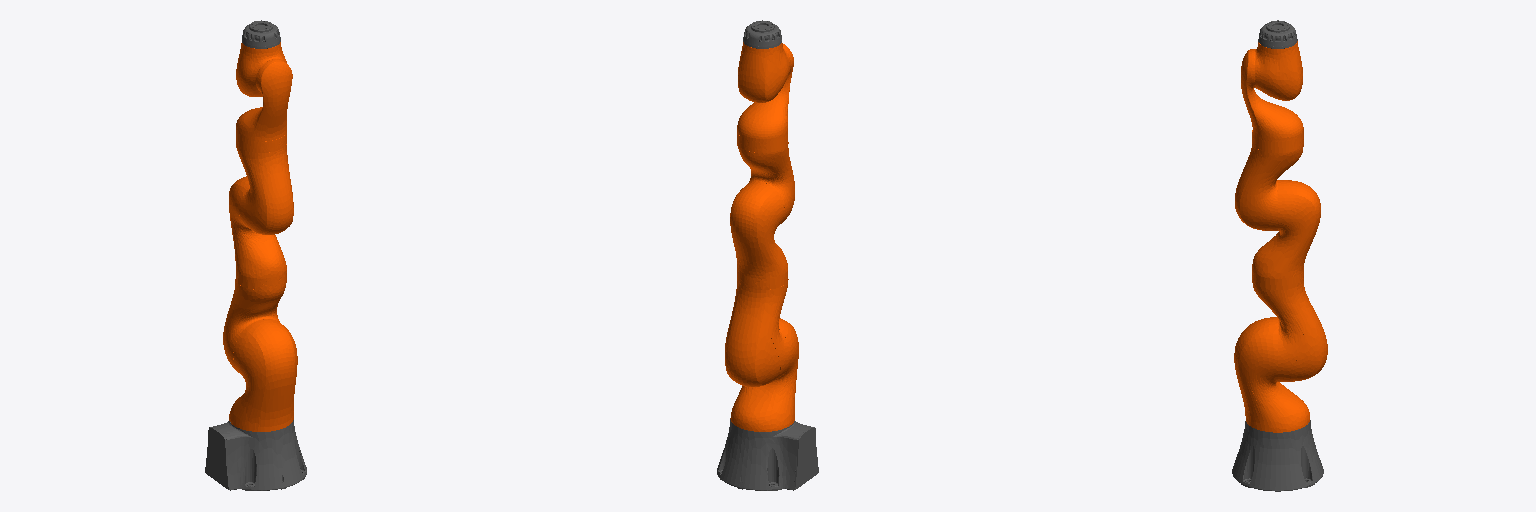
URDF robot description (iiwa14):
<?xml version="1.0" encoding="utf-8"?>
<!-- =================================================================================== -->
<!-- |    This document was autogenerated by xacro from iiwa_description/urdf/iiwa14.urdf.xacro | -->
<!-- |    EDITING THIS FILE BY HAND IS NOT RECOMMENDED                                 | -->
<!-- =================================================================================== -->
<!--|
    Copyright (C) 2019 [author] and Systems Laboratory, EPFL, Switzerland
    Authors:  [author] (maintainer)
              [author]
              [author]
    email:   [email redacted]
             [email redacted]
             [email redacted]
    website: lasa.epfl.ch

    This file is part of iiwa_ros.

    iiwa_ros is free software: you can redistribute it and/or modify
    it under the terms of the GNU General Public License as published by
    the Free Software Foundation, either version 3 of the License, or
    (at your option) any later version.

    iiwa_ros is distributed in the hope that it will be useful,
    but WITHOUT ANY WARRANTY; without even the implied warranty of
    MERCHANTABILITY or FITNESS FOR A PARTICULAR PURPOSE.  See the
    GNU General Public License for more details.

|-->
<robot name="iiwa14" xmlns:xacro="http://www.ros.org/wiki/xacro">
  <material name="Black">
    <color rgba="0.0 0.0 0.0 1.0"/>
  </material>
  <material name="Blue">
    <color rgba="0.0 0.0 0.8 1.0"/>
  </material>
  <material name="Green">
    <color rgba="0.0 0.8 0.0 1.0"/>
  </material>
  <material name="Grey">
    <color rgba="0.4 0.4 0.4 1.0"/>
  </material>
  <material name="Orange">
    <color rgba="1.0 0.423529411765 0.0392156862745 1.0"/>
  </material>
  <material name="Brown">
    <color rgba="0.870588235294 0.811764705882 0.764705882353 1.0"/>
  </material>
  <material name="Red">
    <color rgba="0.8 0.0 0.0 1.0"/>
  </material>
  <material name="White">
    <color rgba="1.0 1.0 1.0 1.0"/>
  </material>
  <!-- Fix to world just for testing -->
  <link name="world"/>
  <!--joint between {parent} and link_0-->
  <joint name="world_iiwa_joint" type="fixed">
    <origin rpy="0 0 0" xyz="0 0 0"/>
    <parent link="world"/>
    <child link="iiwa_link_0"/>
  </joint>
  <link name="iiwa_link_0">
    <inertial>
      <origin rpy="0 0 0" xyz="-0.1 0 0.07"/>
      <mass value="5"/>
      <inertia ixx="0.05" ixy="0" ixz="0" iyy="0.06" iyz="0" izz="0.03"/>
    </inertial>
    <visual>
      <origin rpy="0 0 0" xyz="0 0 0"/>
      <geometry>
        <mesh filename="package://iiwa_description/meshes/iiwa14/visual/link_0.stl"/>
      </geometry>
      <material name="Grey"/>
    </visual>
    <collision>
      <origin rpy="0 0 0" xyz="-0.01 0 0.07875"/>
      <geometry>
        <!-- <mesh filename="package://iiwa_description/meshes/iiwa14/collision/link_0${collision_postfix}.stl"/> -->
        <box size="0.24 0.23 0.1575"/>
      </geometry>
      <material name="Grey"/>
    </collision>
    <self_collision_checking>
      <origin rpy="0 0 0" xyz="0 0 0"/>
      <geometry>
        <capsule length="0.25" radius="0.15"/>
      </geometry>
    </self_collision_checking>
  </link>
  <!-- joint between link_0 and link_1 -->
  <joint name="iiwa_joint_1" type="revolute">
    <parent link="iiwa_link_0"/>
    <child link="iiwa_link_1"/>
    <origin rpy="0 0 0" xyz="0 0 0.1575"/>
    <axis xyz="0 0 1"/>
    <limit effort="320" lower="-2.96705972839" upper="2.96705972839" velocity="1.4835298642"/>
    <safety_controller k_position="100" k_velocity="2" soft_lower_limit="-2.81870674197" soft_upper_limit="2.81870674197"/>
    <dynamics damping="0.5"/>
  </joint>
  <link name="iiwa_link_1">
    <inertial>
      <origin rpy="0 0 0" xyz="0 -0.03 0.12"/>
      <mass value="4"/>
      <inertia ixx="0.1" ixy="0" ixz="0" iyy="0.09" iyz="0" izz="0.02"/>
    </inertial>
    <visual>
      <origin rpy="0 0 0" xyz="0 0 0"/>
      <geometry>
        <mesh filename="package://iiwa_description/meshes/iiwa14/visual/link_1.stl"/>
      </geometry>
      <material name="Orange"/>
    </visual>
    <collision>
      <origin rpy="0 0 0" xyz="0 -0.02 0.13"/>
      <geometry>
        <!-- <mesh filename="package://iiwa_description/meshes/iiwa14/collision/link_1${collision_postfix}.stl"/> -->
        <box size="0.175 0.19 0.26"/>
      </geometry>
      <material name="Orange"/>
    </collision>
  </link>
  <!-- joint between link_1 and link_2 -->
  <joint name="iiwa_joint_2" type="revolute">
    <parent link="iiwa_link_1"/>
    <child link="iiwa_link_2"/>
    <origin rpy="1.57079632679   0 3.14159265359" xyz="0 0 0.2025"/>
    <axis xyz="0 0 1"/>
    <limit effort="320" lower="-2.09439510239" upper="2.09439510239" velocity="1.4835298642"/>
    <safety_controller k_position="100" k_velocity="2" soft_lower_limit="-1.98967534727" soft_upper_limit="1.98967534727"/>
    <dynamics damping="0.5"/>
  </joint>
  <link name="iiwa_link_2">
    <inertial>
      <origin rpy="0 0 0" xyz="0.0003 0.059 0.042"/>
      <mass value="4"/>
      <inertia ixx="0.05" ixy="0" ixz="0" iyy="0.018" iyz="0" izz="0.044"/>
    </inertial>
    <visual>
      <origin rpy="0 0 0" xyz="0 0 0"/>
      <geometry>
        <mesh filename="package://iiwa_description/meshes/iiwa14/visual/link_2.stl"/>
      </geometry>
      <material name="Orange"/>
    </visual>
    <collision>
      <origin rpy="0 0 0" xyz="0 0.12 0.02"/>
      <geometry>
        <!-- <mesh filename="package://iiwa_description/meshes/iiwa14/collision/link_2${collision_postfix}.stl"/> -->
        <box size="0.175 0.24 0.19"/>
      </geometry>
      <material name="Orange"/>
    </collision>
  </link>
  <!-- joint between link_2 and link_3 -->
  <joint name="iiwa_joint_3" type="revolute">
    <parent link="iiwa_link_2"/>
    <child link="iiwa_link_3"/>
    <origin rpy="1.57079632679 0 3.14159265359" xyz="0 0.2045 0"/>
    <axis xyz="0 0 1"/>
    <limit effort="176" lower="-2.96705972839" upper="2.96705972839" velocity="1.74532925199"/>
    <safety_controller k_position="100" k_velocity="2" soft_lower_limit="-2.81870674197" soft_upper_limit="2.81870674197"/>
    <dynamics damping="0.5"/>
  </joint>
  <link name="iiwa_link_3">
    <inertial>
      <origin rpy="0 0 0" xyz="0 0.03 0.13"/>
      <mass value="3"/>
      <inertia ixx="0.08" ixy="0" ixz="0" iyy="0.075" iyz="0" izz="0.01"/>
    </inertial>
    <visual>
      <origin rpy="0 0 0" xyz="0 0 0"/>
      <geometry>
        <mesh filename="package://iiwa_description/meshes/iiwa14/visual/link_3.stl"/>
      </geometry>
      <material name="Orange"/>
    </visual>
    <collision>
      <origin rpy="0 0 0" xyz="0 0.02 0.13"/>
      <geometry>
        <!-- <mesh filename="package://iiwa_description/meshes/iiwa14/collision/link_3${collision_postfix}.stl"/> -->
        <box size="0.125 0.15 0.26"/>
      </geometry>
      <material name="Orange"/>
    </collision>
  </link>
  <!-- joint between link_3 and link_4 -->
  <joint name="iiwa_joint_4" type="revolute">
    <parent link="iiwa_link_3"/>
    <child link="iiwa_link_4"/>
    <origin rpy="1.57079632679 0 0" xyz="0 0 0.2155"/>
    <axis xyz="0 0 1"/>
    <limit effort="176" lower="-2.09439510239" upper="2.09439510239" velocity="1.308996939"/>
    <safety_controller k_position="100" k_velocity="2" soft_lower_limit="-1.98967534727" soft_upper_limit="1.98967534727"/>
    <dynamics damping="0.5"/>
  </joint>
  <link name="iiwa_link_4">
    <inertial>
      <origin rpy="0 0 0" xyz="0 0.067 0.034"/>
      <mass value="2.7"/>
      <inertia ixx="0.03" ixy="0" ixz="0" iyy="0.01" iyz="0" izz="0.029"/>
    </inertial>
    <visual>
      <origin rpy="0 0 0" xyz="0 0 0"/>
      <geometry>
        <mesh filename="package://iiwa_description/meshes/iiwa14/visual/link_4.stl"/>
      </geometry>
      <material name="Orange"/>
    </visual>
    <collision>
      <origin rpy="0 0 0" xyz="0 0.085 0.02"/>
      <geometry>
        <!-- <mesh filename="package://iiwa_description/meshes/iiwa14/collision/link_4${collision_postfix}.stl"/> -->
        <box size="0.125 0.22 0.15"/>
      </geometry>
      <material name="Orange"/>
    </collision>
  </link>
  <!-- joint between link_4 and link_5 -->
  <joint name="iiwa_joint_5" type="revolute">
    <parent link="iiwa_link_4"/>
    <child link="iiwa_link_5"/>
    <origin rpy="-1.57079632679 3.14159265359 0" xyz="0 0.1845 0"/>
    <axis xyz="0 0 1"/>
    <limit effort="110" lower="-2.96705972839" upper="2.96705972839" velocity="2.26892802759"/>
    <safety_controller k_position="100" k_velocity="2" soft_lower_limit="-2.81870674197" soft_upper_limit="2.81870674197"/>
    <dynamics damping="0.5"/>
  </joint>
  <link name="iiwa_link_5">
    <inertial>
      <origin rpy="0 0 0" xyz="0.0001 0.021 0.076"/>
      <mass value="1.7"/>
      <inertia ixx="0.02" ixy="0" ixz="0" iyy="0.018" iyz="0" izz="0.005"/>
    </inertial>
    <visual>
      <origin rpy="0 0 0" xyz="0 0 0"/>
      <geometry>
        <mesh filename="package://iiwa_description/meshes/iiwa14/visual/link_5.stl"/>
      </geometry>
      <material name="Orange"/>
    </visual>
    <collision>
      <origin rpy="0 0 0" xyz="0 0.02 0.12"/>
      <geometry>
        <!-- <mesh filename="package://iiwa_description/meshes/iiwa14/collision/link_5${collision_postfix}.stl"/> -->
        <box size="0.125 0.15 0.24"/>
      </geometry>
      <material name="Orange"/>
    </collision>
  </link>
  <!-- joint between link_5 and link_6 -->
  <joint name="iiwa_joint_6" type="revolute">
    <parent link="iiwa_link_5"/>
    <child link="iiwa_link_6"/>
    <origin rpy="1.57079632679 0 0" xyz="0 0 0.2155"/>
    <axis xyz="0 0 1"/>
    <limit effort="40" lower="-2.09439510239" upper="2.09439510239" velocity="2.35619449019"/>
    <safety_controller k_position="100" k_velocity="2" soft_lower_limit="-1.98967534727" soft_upper_limit="1.98967534727"/>
    <dynamics damping="0.5"/>
  </joint>
  <link name="iiwa_link_6">
    <inertial>
      <origin rpy="0 0 0" xyz="0 0.0006 0.0004"/>
      <mass value="1.8"/>
      <inertia ixx="0.005" ixy="0" ixz="0" iyy="0.0036" iyz="0" izz="0.0047"/>
    </inertial>
    <visual>
      <origin rpy="0 0 0" xyz="0 0 0"/>
      <geometry>
        <mesh filename="package://iiwa_description/meshes/iiwa14/visual/link_6.stl"/>
      </geometry>
      <material name="Orange"/>
    </visual>
    <collision>
      <origin rpy="0 0 0" xyz="0 0 0"/>
      <geometry>
        <!-- <mesh filename="package://iiwa_description/meshes/iiwa14/collision/link_6${collision_postfix}.stl"/> -->
        <box size="0.125 0.15 0.125"/>
      </geometry>
      <material name="Orange"/>
    </collision>
  </link>
  <!-- joint between link_6 and link_7 -->
  <joint name="iiwa_joint_7" type="revolute">
    <parent link="iiwa_link_6"/>
    <child link="iiwa_link_7"/>
    <origin rpy="-1.57079632679 3.14159265359 0" xyz="0 0.081 0"/>
    <axis xyz="0 0 1"/>
    <limit effort="40" lower="-3.05432619099" upper="3.05432619099" velocity="2.35619449019"/>
    <safety_controller k_position="100" k_velocity="2" soft_lower_limit="-2.90160988144" soft_upper_limit="2.90160988144"/>
    <dynamics damping="0.5"/>
  </joint>
  <link name="iiwa_link_7">
    <inertial>
      <origin rpy="0 0 0" xyz="0 0 0.02"/>
      <mass value="0.3"/>
      <inertia ixx="0.001" ixy="0" ixz="0" iyy="0.001" iyz="0" izz="0.001"/>
    </inertial>
    <visual>
      <origin rpy="0 0 0" xyz="0 0 0"/>
      <geometry>
        <mesh filename="package://iiwa_description/meshes/iiwa14/visual/link_7.stl"/>
      </geometry>
      <material name="Grey"/>
    </visual>
    <collision>
      <origin rpy="0 0 0" xyz="0 0 0.017"/>
      <geometry>
        <!-- <mesh filename="package://iiwa_description/meshes/iiwa14/collision/link_7${collision_postfix}.stl"/> -->
        <box size="0.1 0.1 0.05"/>
      </geometry>
      <material name="Grey"/>
    </collision>
  </link>
  <joint name="iiwa_joint_ee" type="fixed">
    <parent link="iiwa_link_7"/>
    <child link="iiwa_link_ee"/>
    <origin rpy="0 0 0" xyz="0 0 0.045"/>
  </joint>
  <link name="iiwa_link_ee">
    <inertial>
      <origin rpy="0 0 0" xyz="0 0 0"/>
      <mass value="1e-6"/>
      <inertia ixx="1" ixy="0" ixz="0" iyy="1" iyz="0" izz="1"/>
    </inertial>
  </link>
  <!-- Load Gazebo lib and set the robot namespace -->
  <gazebo>
    <plugin filename="libgazebo_ros_control.so" name="gazebo_ros_control">
      <robotNamespace>/iiwa</robotNamespace>
      <robotSimType>iiwa_gazebo/GravityCompensationHWSim</robotSimType>
    </plugin>
  </gazebo>
  <!-- Link0 -->
  <gazebo reference="iiwa_link_0">
    <material>Gazebo/Grey</material>
    <mu1>0.2</mu1>
    <mu2>0.2</mu2>
  </gazebo>
  <!-- Link1 -->
  <gazebo reference="iiwa_link_1">
    <material>Gazebo/Orange</material>
    <mu1>0.2</mu1>
    <mu2>0.2</mu2>
  </gazebo>
  <!-- Link2 -->
  <gazebo reference="iiwa_link_2">
    <material>Gazebo/Orange</material>
    <mu1>0.2</mu1>
    <mu2>0.2</mu2>
  </gazebo>
  <!-- Link3 -->
  <gazebo reference="iiwa_link_3">
    <material>Gazebo/Orange</material>
    <mu1>0.2</mu1>
    <mu2>0.2</mu2>
  </gazebo>
  <!-- Link4 -->
  <gazebo reference="iiwa_link_4">
    <material>Gazebo/Orange</material>
    <mu1>0.2</mu1>
    <mu2>0.2</mu2>
  </gazebo>
  <!-- Link5 -->
  <gazebo reference="iiwa_link_5">
    <material>Gazebo/Orange</material>
    <mu1>0.2</mu1>
    <mu2>0.2</mu2>
  </gazebo>
  <!-- Link6 -->
  <gazebo reference="iiwa_link_6">
    <material>Gazebo/Orange</material>
    <mu1>0.2</mu1>
    <mu2>0.2</mu2>
  </gazebo>
  <!-- Link7 -->
  <gazebo reference="iiwa_link_7">
    <material>Gazebo/Grey</material>
    <mu1>0.2</mu1>
    <mu2>0.2</mu2>
  </gazebo>
  <transmission name="iiwa_tran_1">
    <robotNamespace>/iiwa</robotNamespace>
    <type>transmission_interface/SimpleTransmission</type>
    <joint name="iiwa_joint_1">
      <hardwareInterface>hardware_interface/PositionJointInterface</hardwareInterface>
    </joint>
    <actuator name="iiwa_motor_1">
      <hardwareInterface>hardware_interface/PositionJointInterface</hardwareInterface>
      <mechanicalReduction>1</mechanicalReduction>
    </actuator>
  </transmission>
  <transmission name="iiwa_tran_2">
    <robotNamespace>/iiwa</robotNamespace>
    <type>transmission_interface/SimpleTransmission</type>
    <joint name="iiwa_joint_2">
      <hardwareInterface>hardware_interface/PositionJointInterface</hardwareInterface>
    </joint>
    <actuator name="iiwa_motor_2">
      <hardwareInterface>hardware_interface/PositionJointInterface</hardwareInterface>
      <mechanicalReduction>1</mechanicalReduction>
    </actuator>
  </transmission>
  <transmission name="iiwa_tran_3">
    <robotNamespace>/iiwa</robotNamespace>
    <type>transmission_interface/SimpleTransmission</type>
    <joint name="iiwa_joint_3">
      <hardwareInterface>hardware_interface/PositionJointInterface</hardwareInterface>
    </joint>
    <actuator name="iiwa_motor_3">
      <hardwareInterface>hardware_interface/PositionJointInterface</hardwareInterface>
      <mechanicalReduction>1</mechanicalReduction>
    </actuator>
  </transmission>
  <transmission name="iiwa_tran_4">
    <robotNamespace>/iiwa</robotNamespace>
    <type>transmission_interface/SimpleTransmission</type>
    <joint name="iiwa_joint_4">
      <hardwareInterface>hardware_interface/PositionJointInterface</hardwareInterface>
    </joint>
    <actuator name="iiwa_motor_4">
      <hardwareInterface>hardware_interface/PositionJointInterface</hardwareInterface>
      <mechanicalReduction>1</mechanicalReduction>
    </actuator>
  </transmission>
  <transmission name="iiwa_tran_5">
    <robotNamespace>/iiwa</robotNamespace>
    <type>transmission_interface/SimpleTransmission</type>
    <joint name="iiwa_joint_5">
      <hardwareInterface>hardware_interface/PositionJointInterface</hardwareInterface>
    </joint>
    <actuator name="iiwa_motor_5">
      <hardwareInterface>hardware_interface/PositionJointInterface</hardwareInterface>
      <mechanicalReduction>1</mechanicalReduction>
    </actuator>
  </transmission>
  <transmission name="iiwa_tran_6">
    <robotNamespace>/iiwa</robotNamespace>
    <type>transmission_interface/SimpleTransmission</type>
    <joint name="iiwa_joint_6">
      <hardwareInterface>hardware_interface/PositionJointInterface</hardwareInterface>
    </joint>
    <actuator name="iiwa_motor_6">
      <hardwareInterface>hardware_interface/PositionJointInterface</hardwareInterface>
      <mechanicalReduction>1</mechanicalReduction>
    </actuator>
  </transmission>
  <transmission name="iiwa_tran_7">
    <robotNamespace>/iiwa</robotNamespace>
    <type>transmission_interface/SimpleTransmission</type>
    <joint name="iiwa_joint_7">
      <hardwareInterface>hardware_interface/PositionJointInterface</hardwareInterface>
    </joint>
    <actuator name="iiwa_motor_7">
      <hardwareInterface>hardware_interface/PositionJointInterface</hardwareInterface>
      <mechanicalReduction>1</mechanicalReduction>
    </actuator>
  </transmission>
</robot>

--- Render facts (derived) ---
3 views of the same robot in one strip: view 1: azimuth 30°, elevation 25°; view 2: azimuth 150°, elevation 25°; view 3: azimuth 270°, elevation 25° (orthographic).
Robot: iiwa14 — 10 links, 9 joints (7 revolute, 2 fixed); root link world; default pose: all joints at 0.
Links seen in each view (by area): view 1: iiwa_link_1, iiwa_link_0, iiwa_link_4, iiwa_link_5, iiwa_link_3, iiwa_link_2, iiwa_link_6, iiwa_link_7; view 2: iiwa_link_0, iiwa_link_2, iiwa_link_3, iiwa_link_1, iiwa_link_5, iiwa_link_6, iiwa_link_4, iiwa_link_7; view 3: iiwa_link_1, iiwa_link_0, iiwa_link_3, iiwa_link_2, iiwa_link_4, iiwa_link_5, iiwa_link_6, iiwa_link_7.
Boxes of the visible links, box(x1,y1,x2,y2) form: iiwa_link_1: box(229, 319, 297, 431); iiwa_link_0: box(205, 420, 306, 490); iiwa_link_4: box(236, 144, 293, 234); iiwa_link_5: box(236, 59, 292, 152); iiwa_link_3: box(229, 176, 286, 289); iiwa_link_2: box(223, 279, 286, 372); iiwa_link_6: box(236, 42, 286, 96); iiwa_link_7: box(242, 20, 280, 48); iiwa_link_0: box(717, 419, 818, 490); iiwa_link_2: box(725, 279, 790, 386); iiwa_link_3: box(730, 182, 787, 289); iiwa_link_1: box(730, 318, 798, 431); iiwa_link_5: box(737, 44, 793, 152); iiwa_link_6: box(738, 42, 790, 102); iiwa_link_4: box(737, 142, 794, 223); iiwa_link_7: box(743, 20, 781, 48); iiwa_link_1: box(1234, 317, 1309, 432); iiwa_link_0: box(1232, 420, 1323, 491); iiwa_link_3: box(1252, 180, 1320, 289); iiwa_link_2: box(1252, 281, 1327, 381); iiwa_link_4: box(1235, 144, 1303, 230); iiwa_link_5: box(1241, 49, 1303, 152); iiwa_link_6: box(1255, 41, 1302, 100); iiwa_link_7: box(1258, 20, 1297, 48).
Size in the robot's own frame: 0.2573 by 0.2535 by 1.31 metres.
8 mesh visuals loaded from 8 distinct referenced files (8 binary STL).
